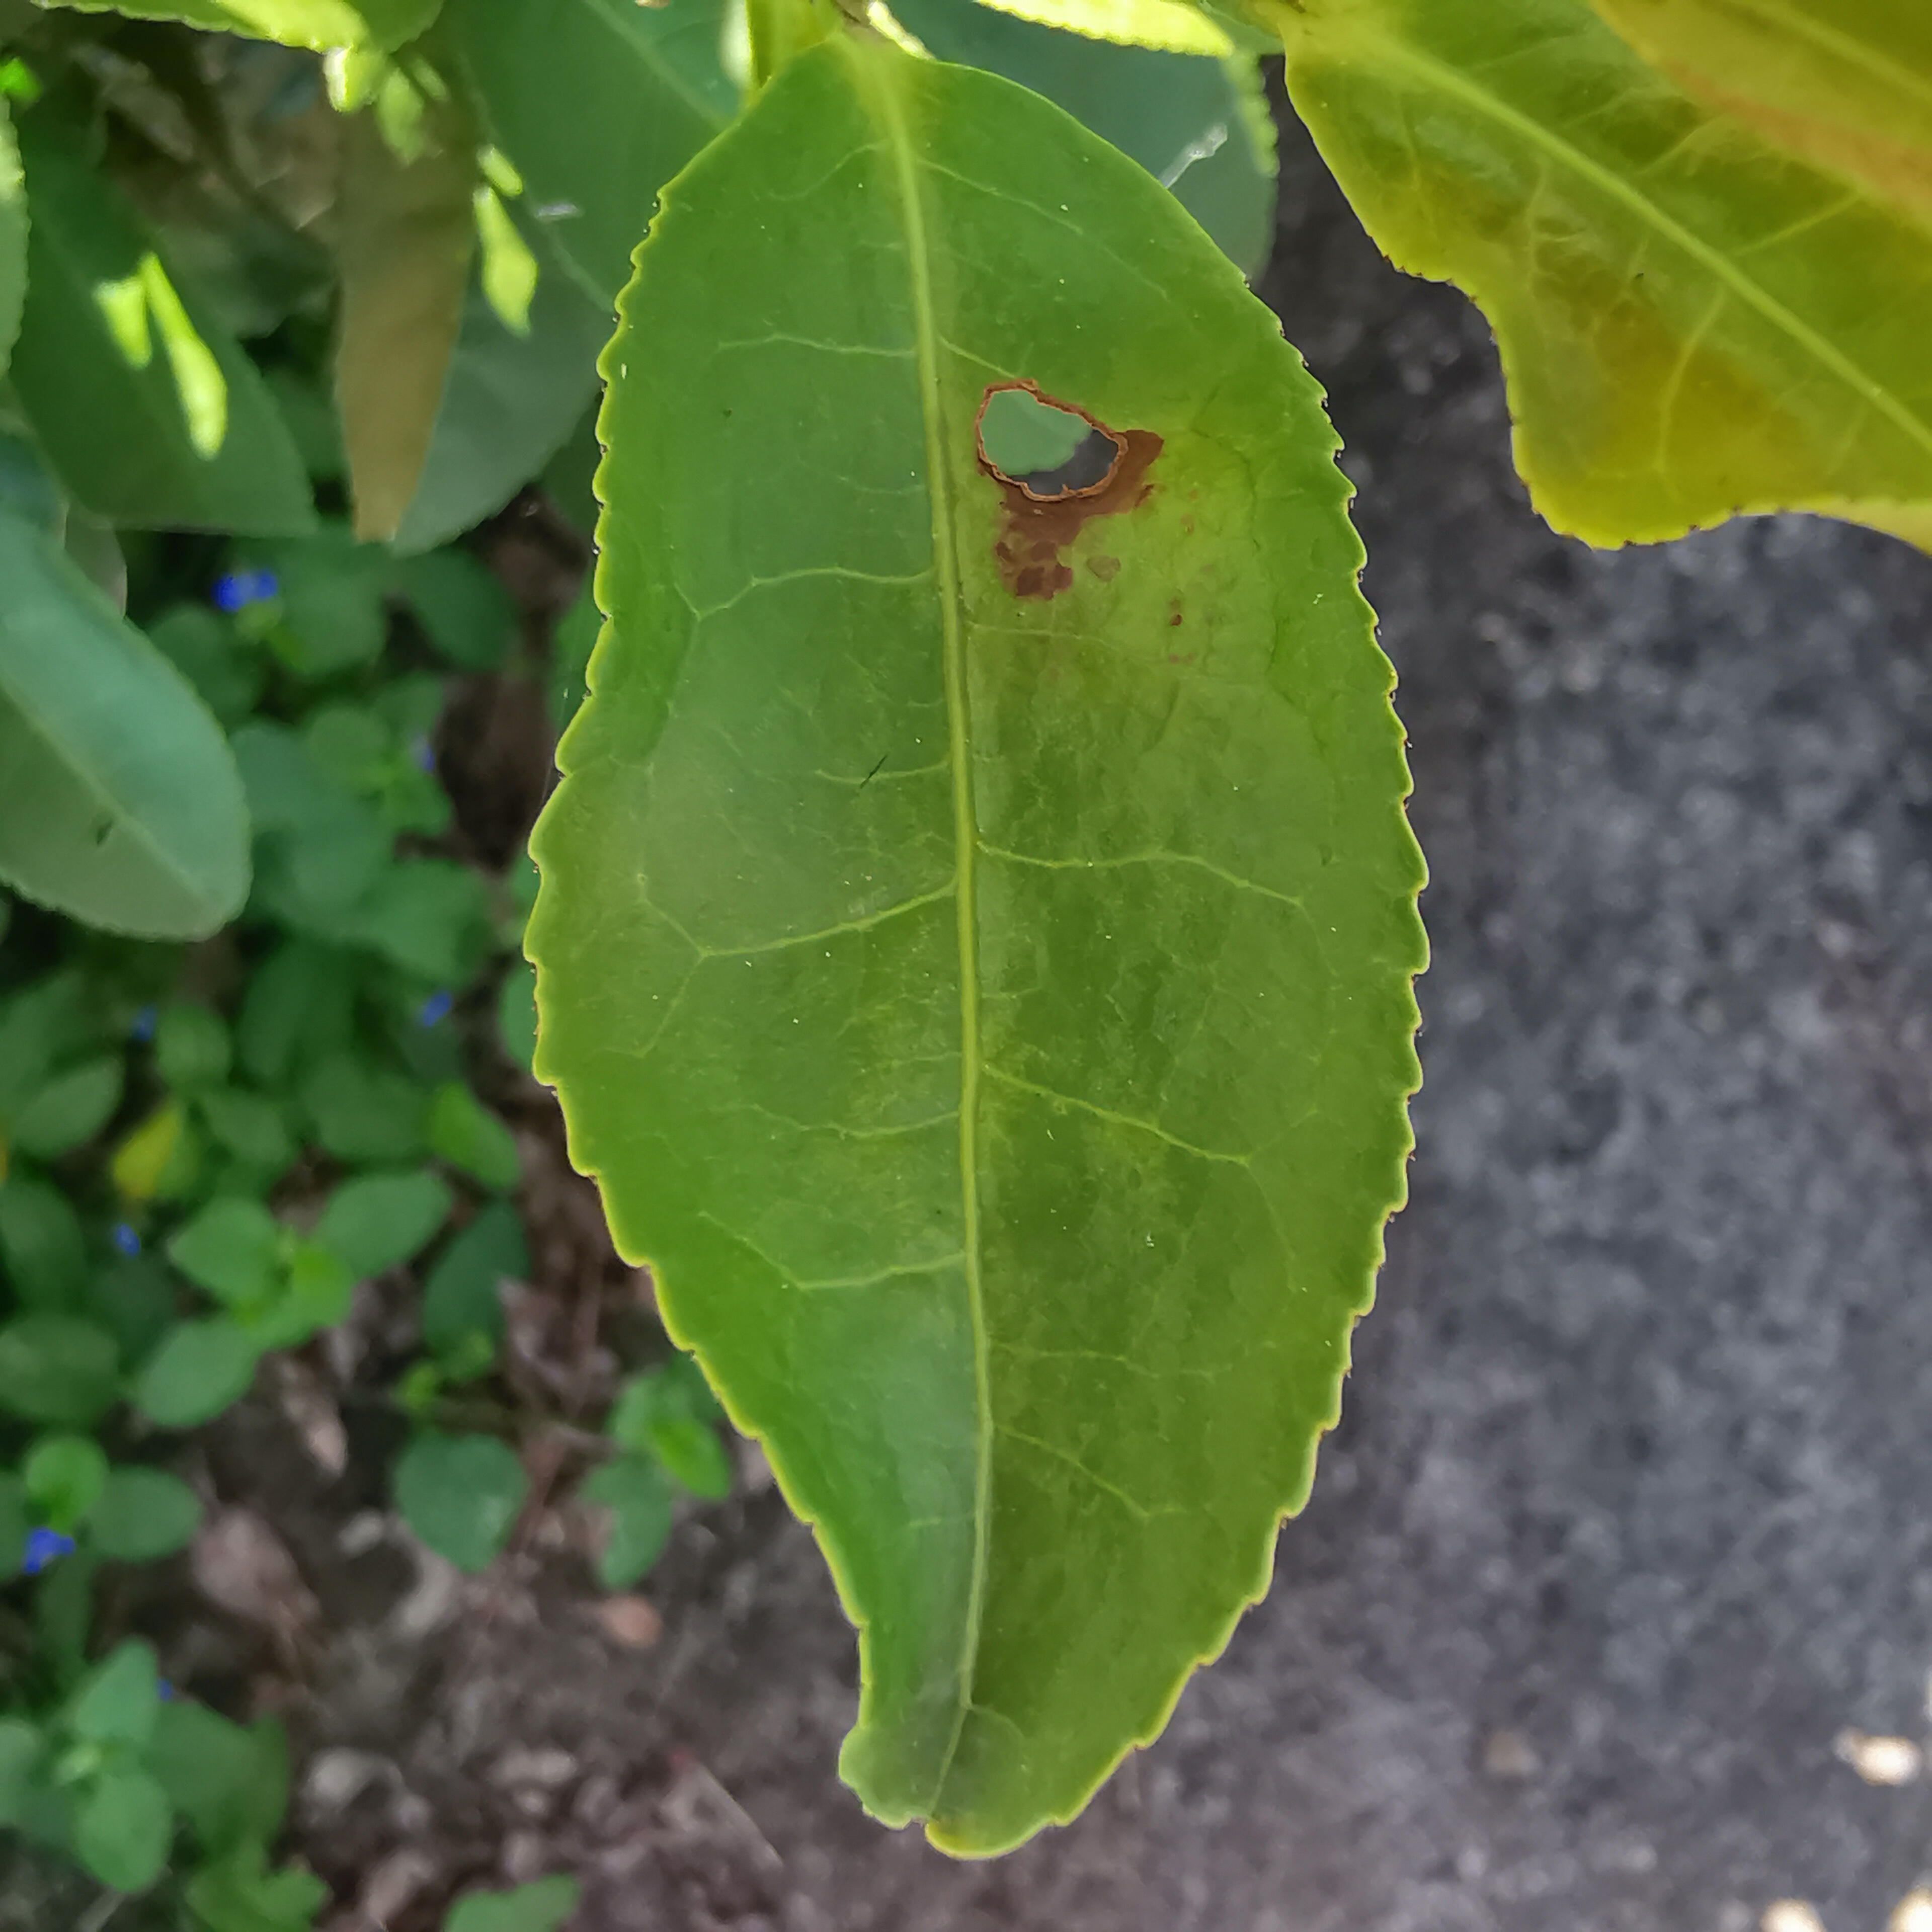chihuo_low: (515, 48, 1433, 1863)
